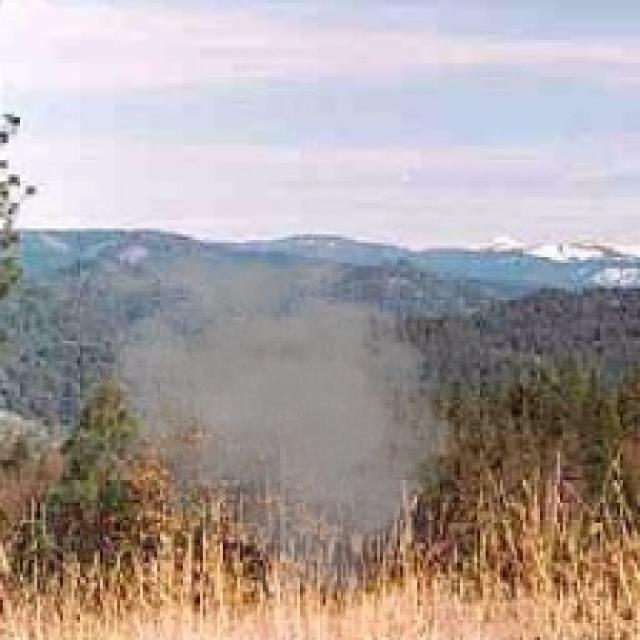smoke: (69, 232, 477, 608)
